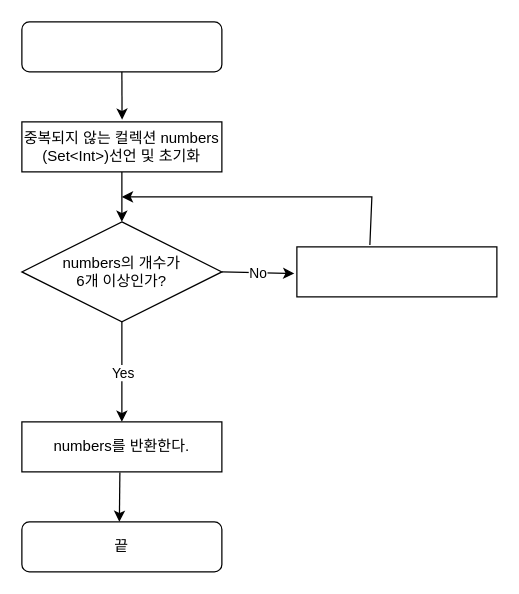
This 519x594 diagram has some shape labels left out. Each missing label, with the centre of its shape:
1부터 45의 범위 중 임의의 수를뽑아 numbers에 넣어준다.: point (396, 271)
시작: point (121, 46)
